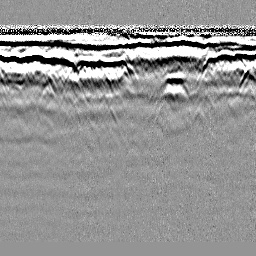cavity: (117, 60, 140, 81)
